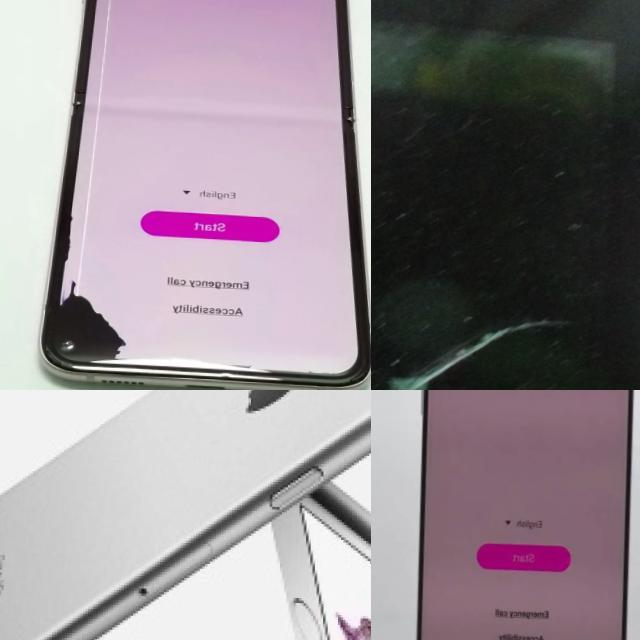dead pixel: (44, 282, 177, 377)
screen crack: (371, 257, 582, 390)
